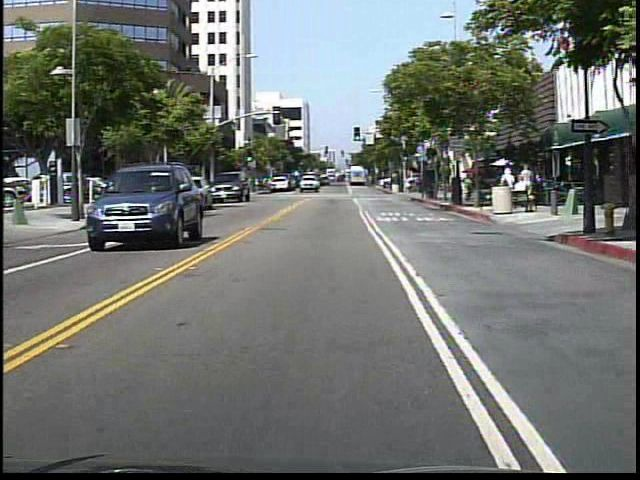person: (461, 172, 477, 206), (261, 172, 274, 198)
